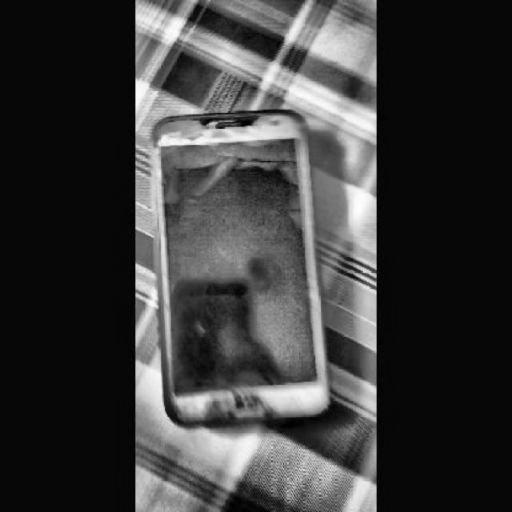phone: (149, 111, 329, 434)
